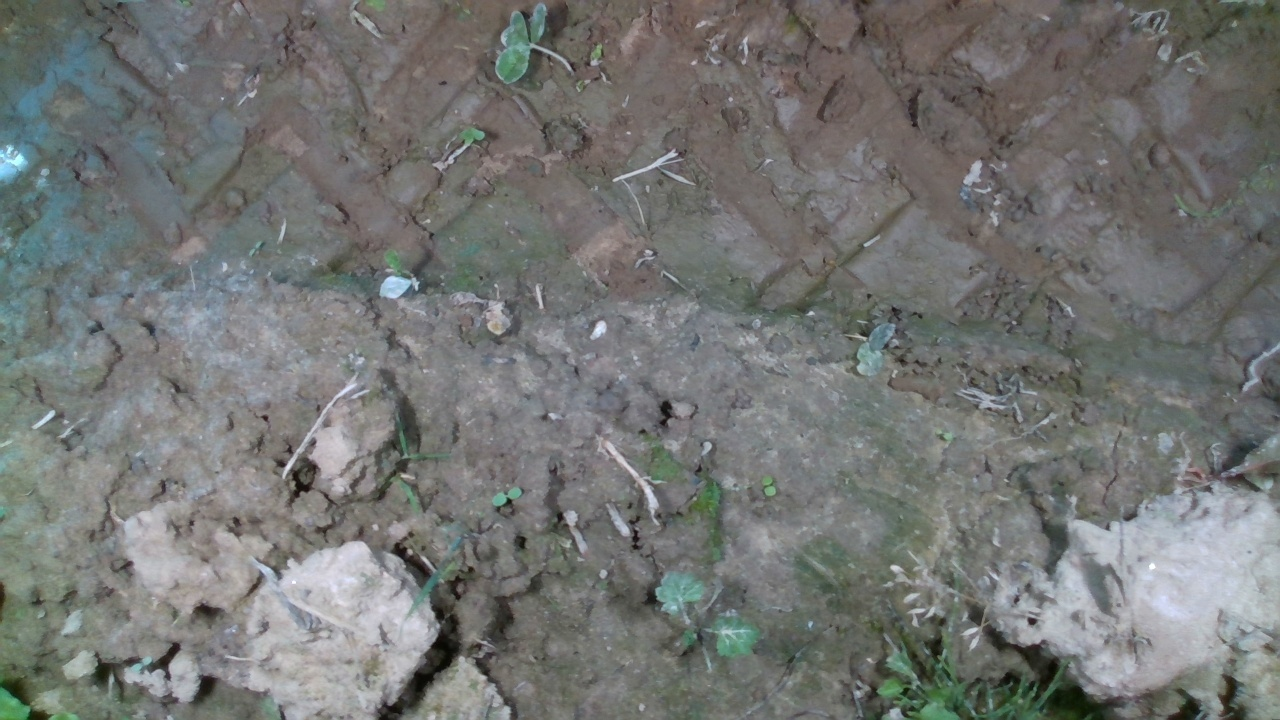weed: (490, 484, 523, 508), (760, 474, 777, 498)
